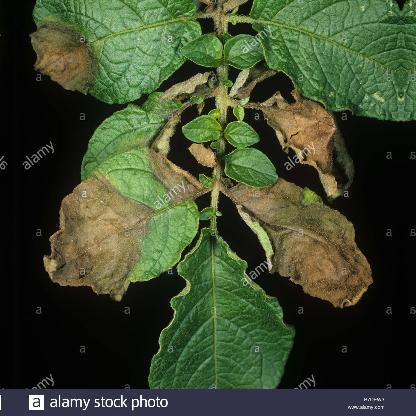Late-Blight: (21, 0, 397, 346)
